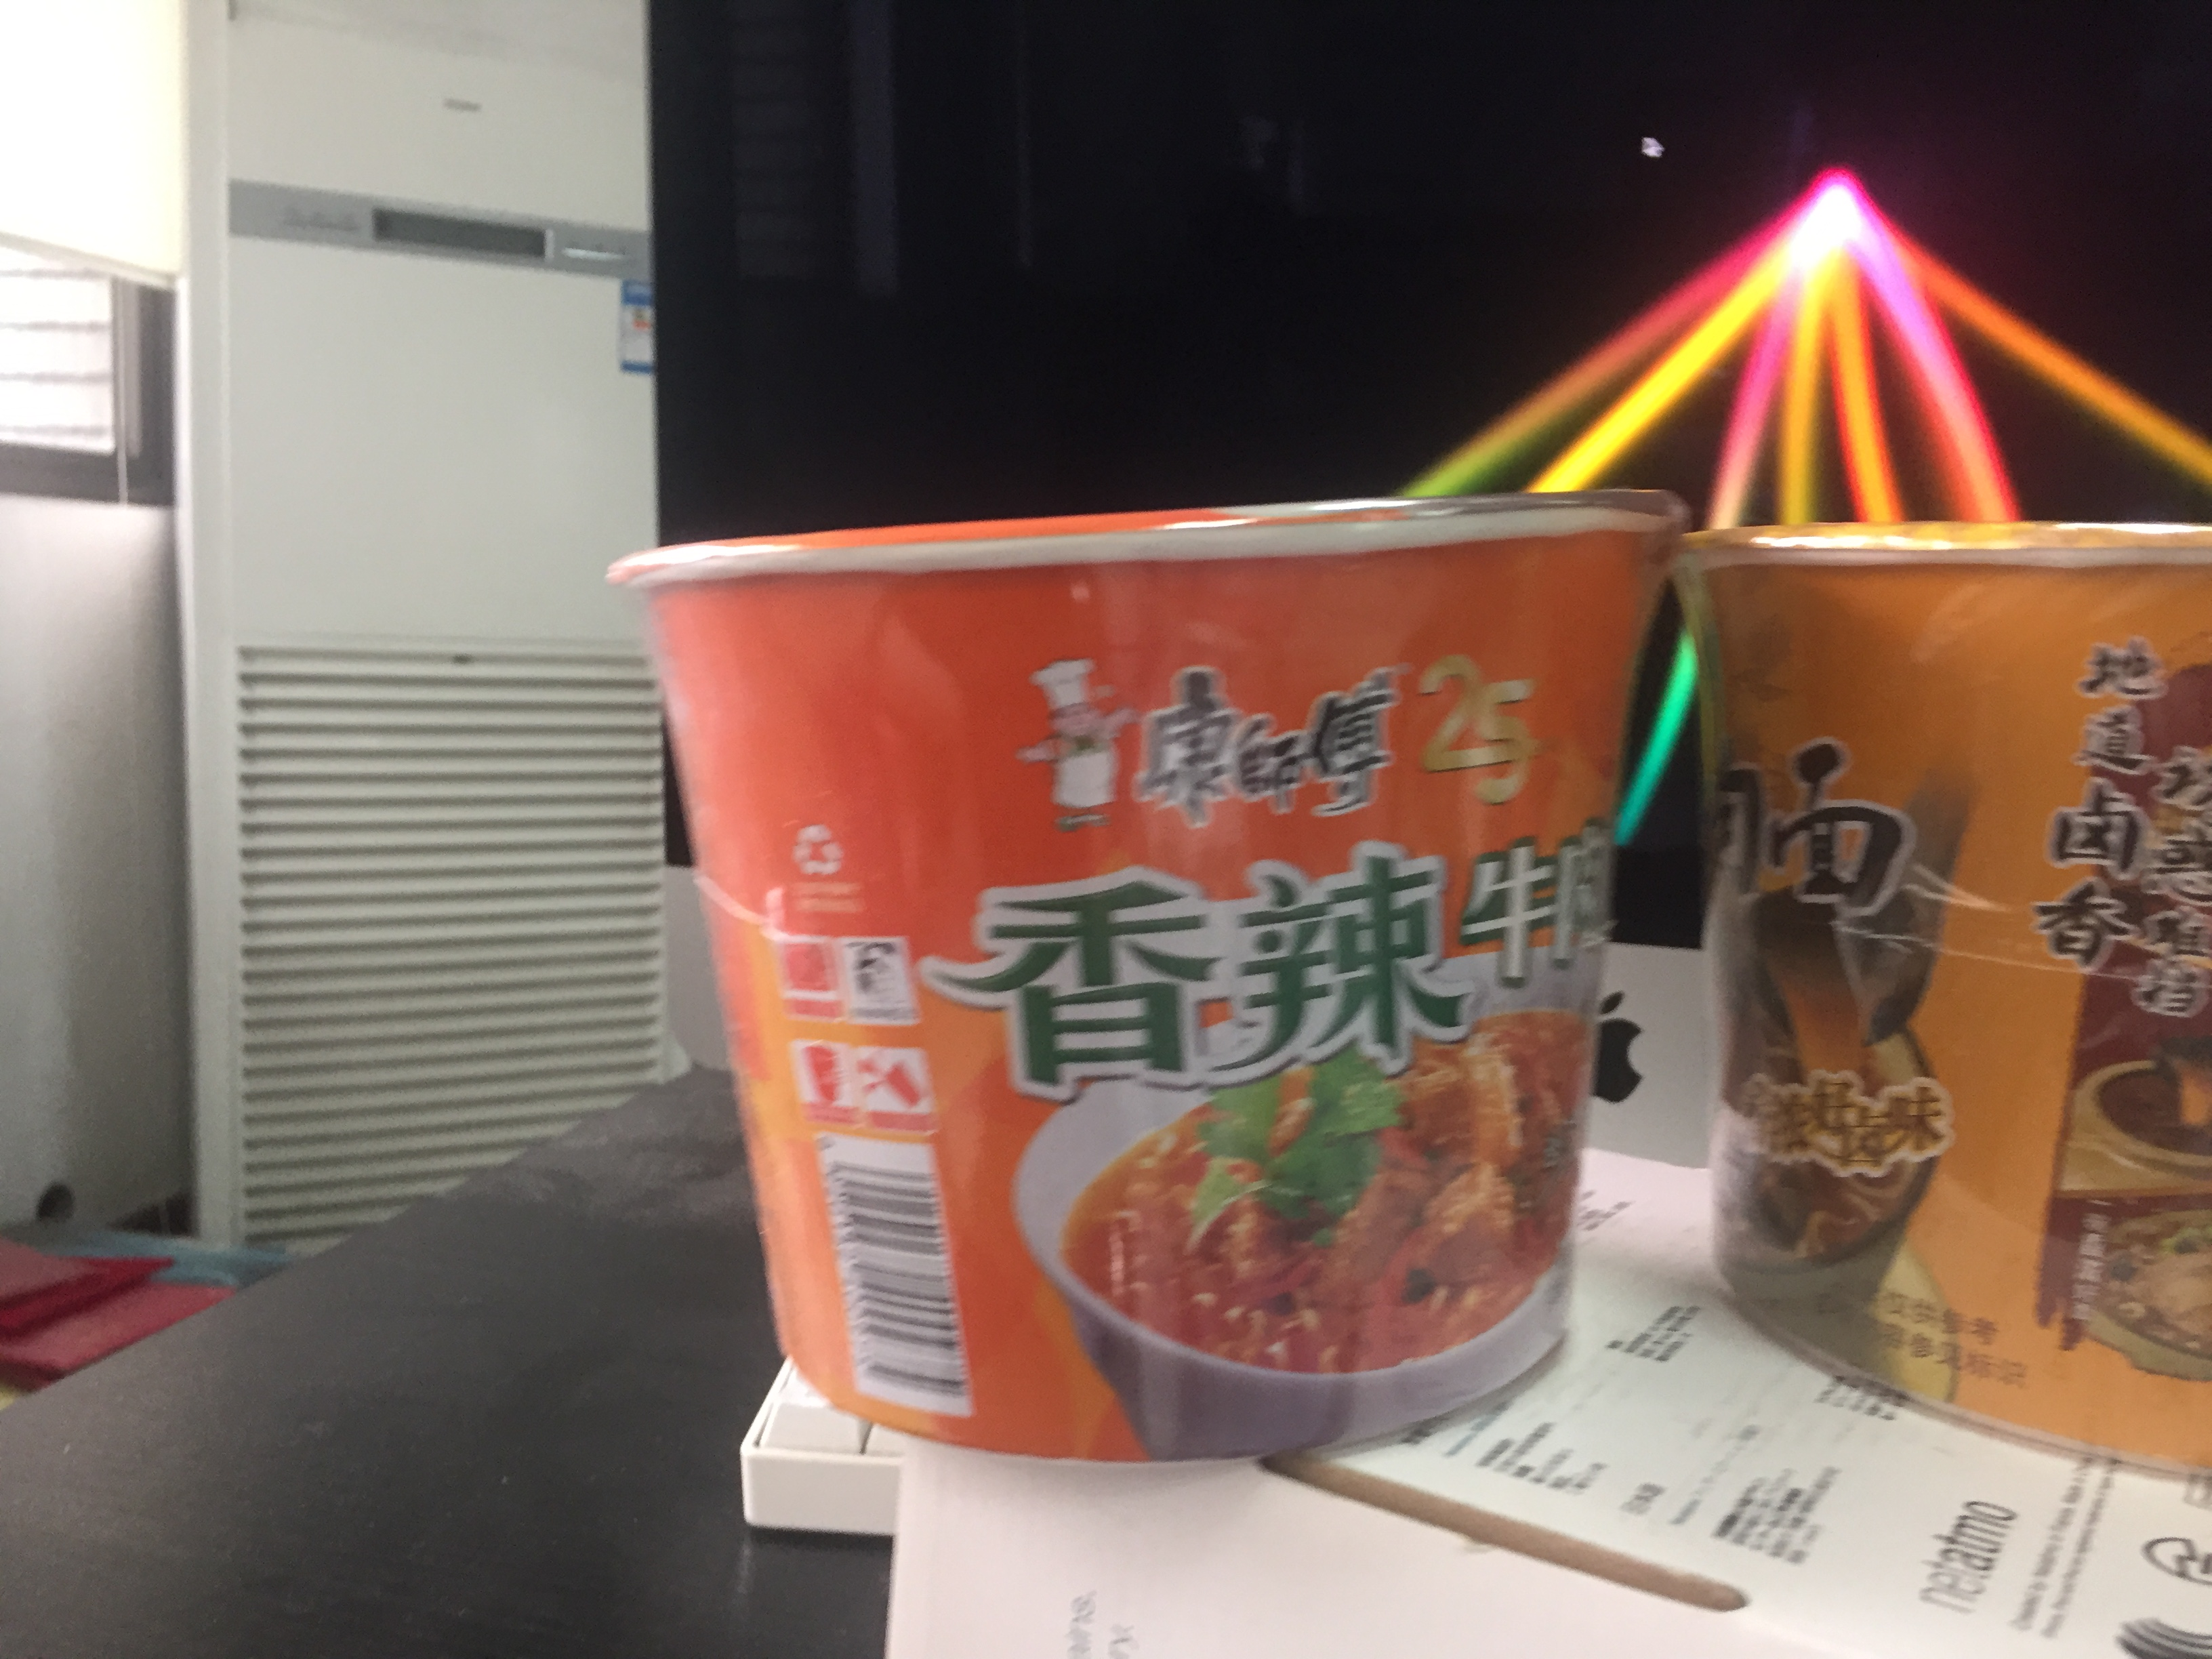luxiang: (1670, 521, 2212, 1488)
xiangla: (604, 491, 1691, 1464)
